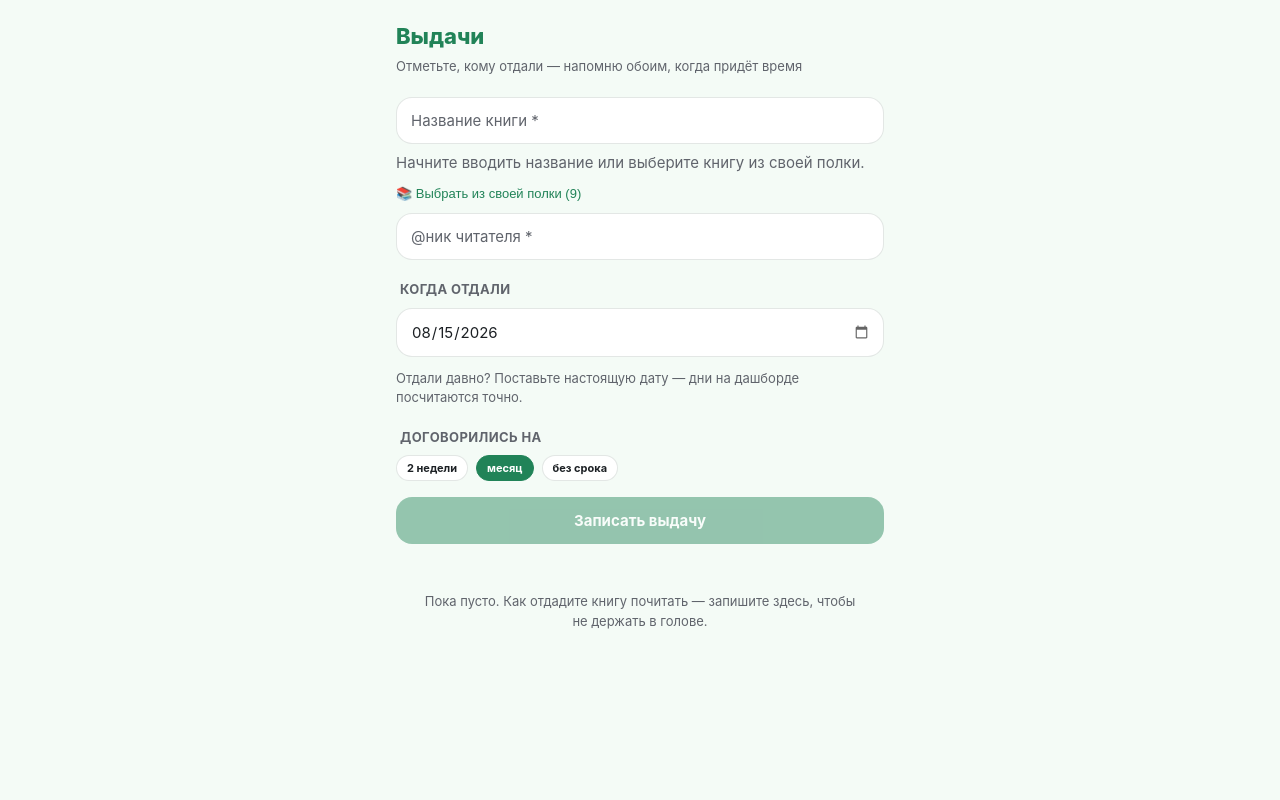
выбор книги из всей полки › выбор книги подставляет её в форму и закрывает список
What coordinates should you click on to do the following:
click the button "📚 Выбрать из своей полки (9)"
I would click on:
 (483, 194)
Its box is [396,182,884,205].
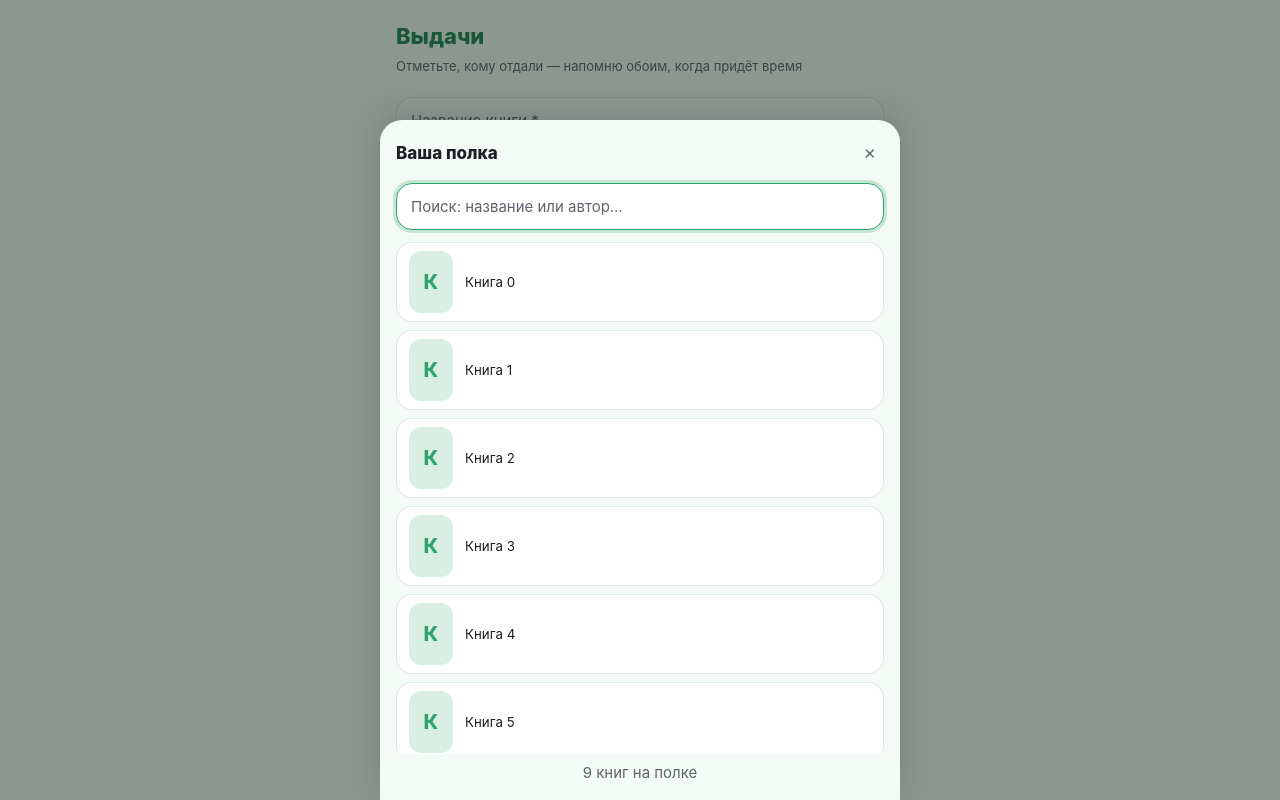
What coordinates should you click on to do the following:
click the button "К Книга 3"
I would click on:
 (431, 546)
Its box is [396,506,884,586].
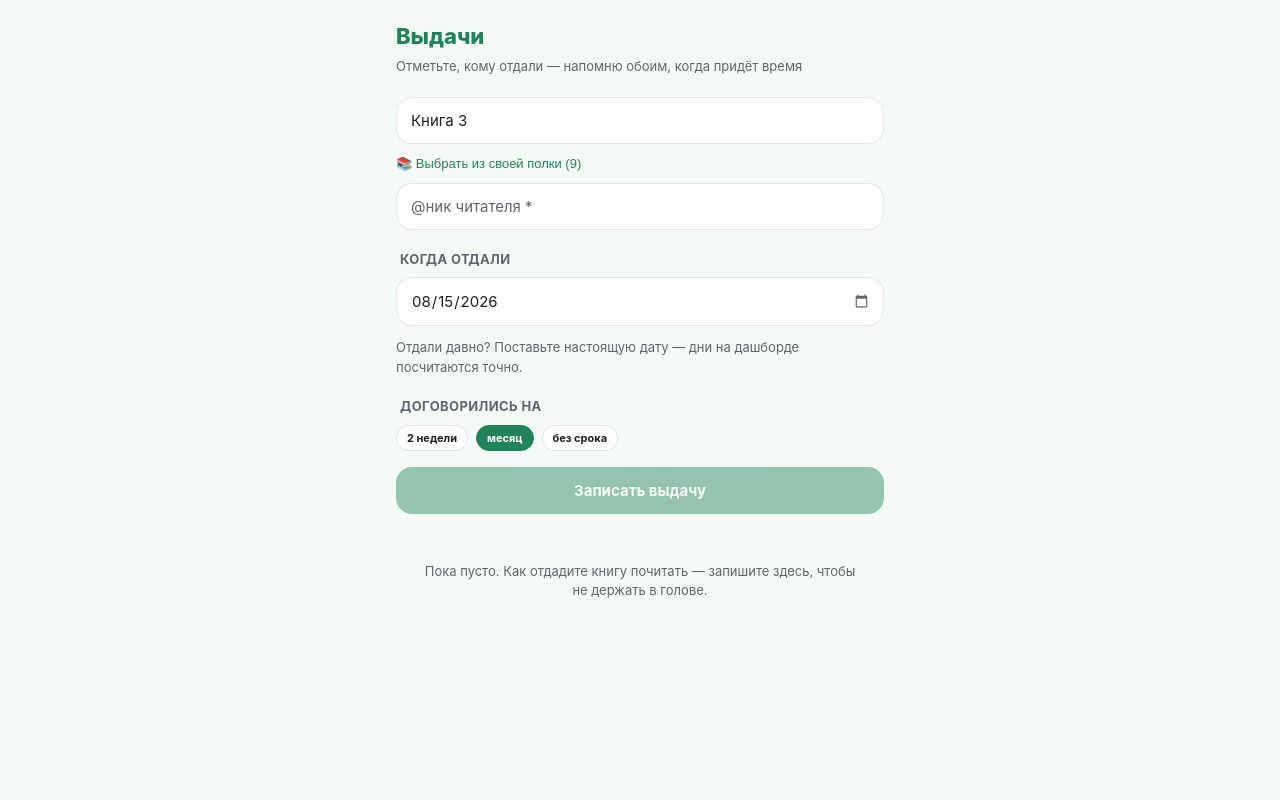
Now the field with placeholder "Название книги *" holds "Книга 3", box [396,96,884,144]
Now the dialog with class "sheet" is gone
